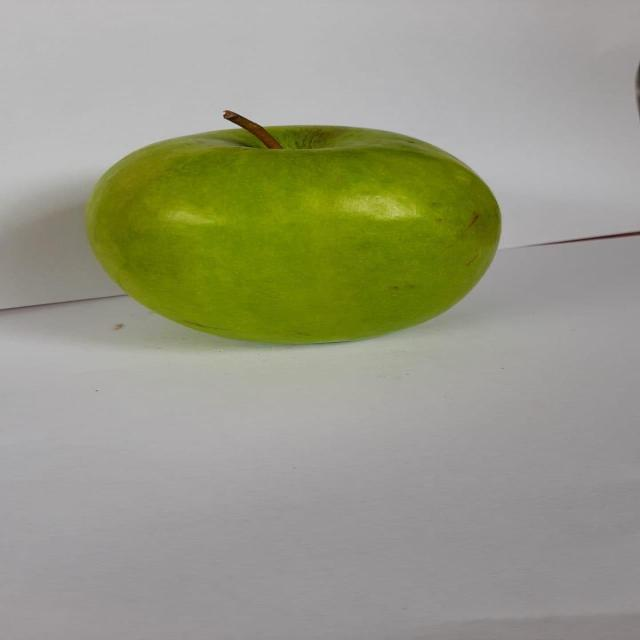Rotten Apple: (76, 104, 514, 361)
